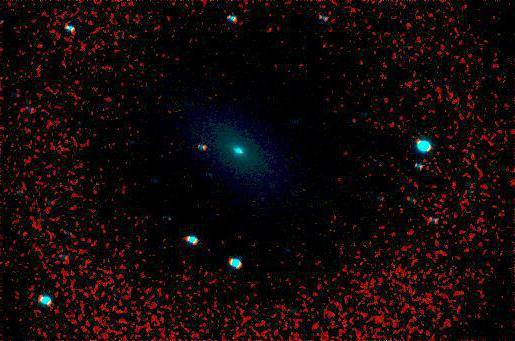star: (193, 130, 223, 160)
